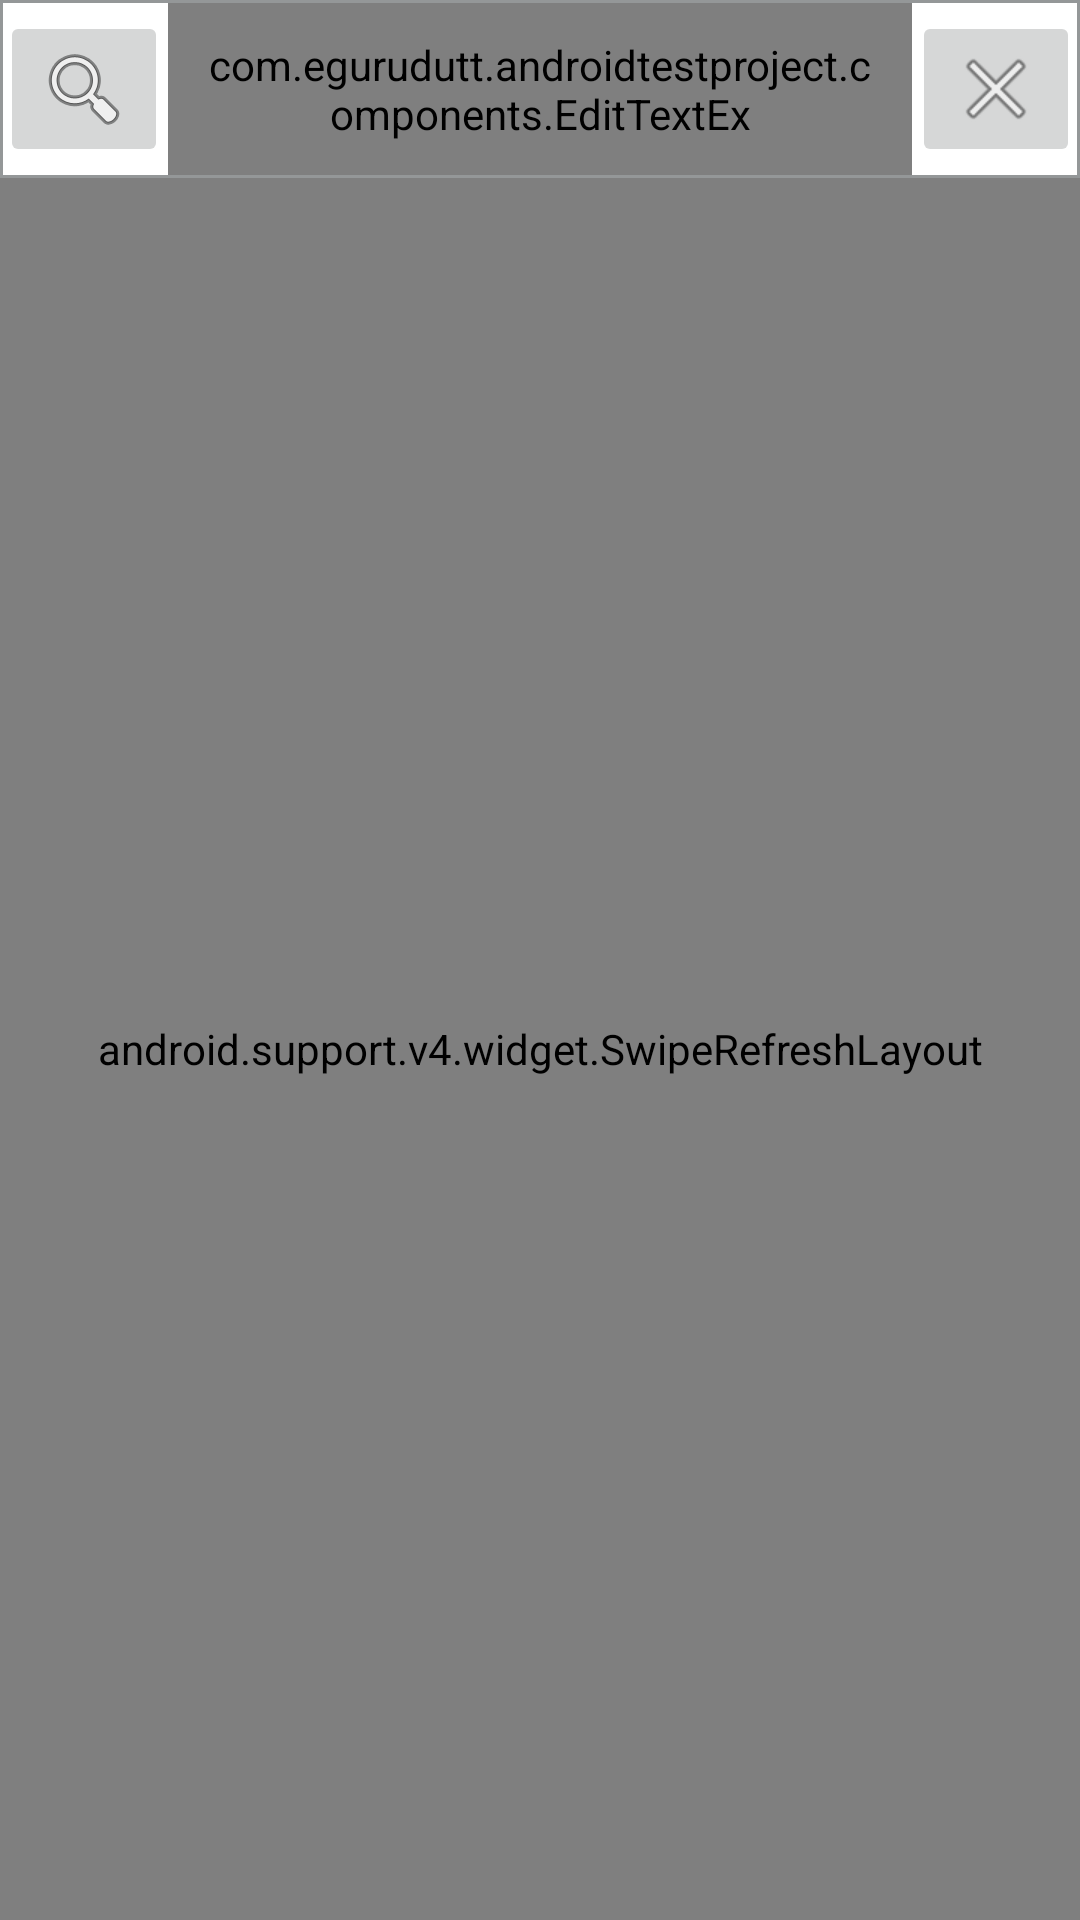

Named icons in this screenshot (1080*1920) and their centers, (x=x, y=y):
close clear cancel: (x=996, y=89)
